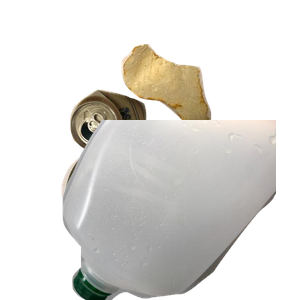glass: (59, 135, 254, 300)
metal: (67, 87, 206, 234)
plastic: (60, 120, 300, 300)
trash: (119, 42, 300, 161)
